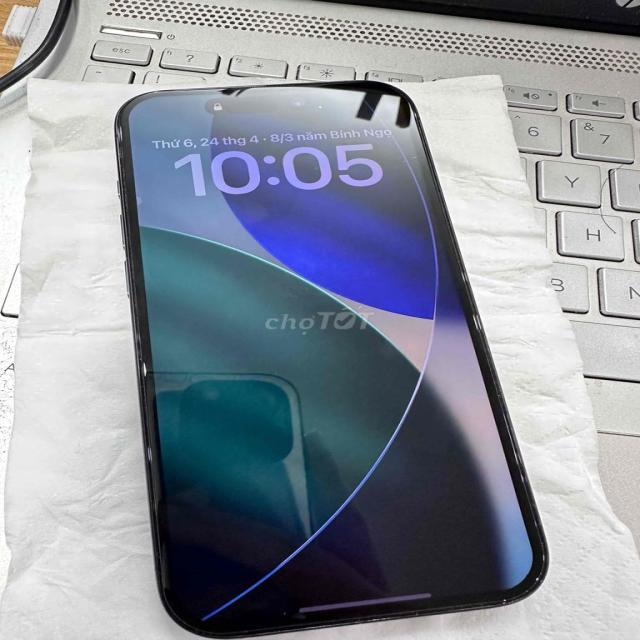gen_15: (101, 64, 546, 640)
scratch: (259, 597, 531, 635), (107, 147, 141, 317), (498, 409, 529, 486), (124, 329, 146, 351), (524, 570, 544, 593), (115, 118, 130, 145), (454, 267, 472, 286), (139, 442, 155, 463), (137, 357, 150, 381), (471, 312, 486, 332)
